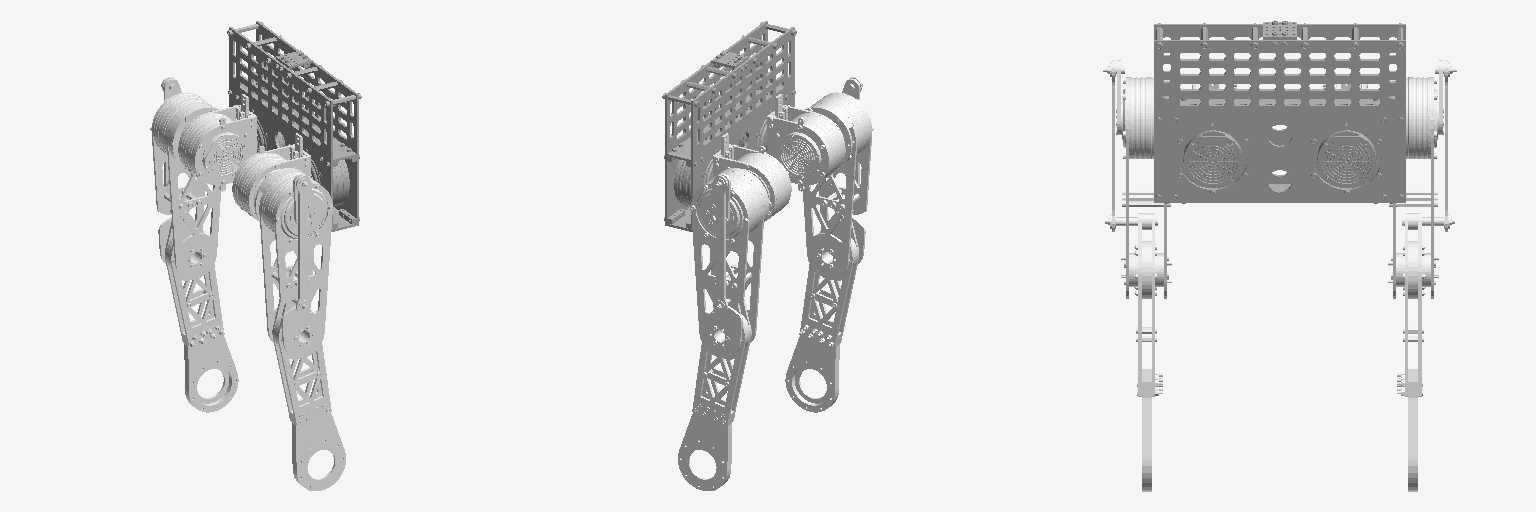
robot.urdf — CJ-003-wheelfoot:
<?xml version="1.0" encoding="utf-8"?>
<!-- This URDF was automatically created by SolidWorks to URDF Exporter! Originally created by [author] ([email redacted]) 
     Commit Version: 1.6.0-4-g7f85cfe  Build Version: 1.6.7995.38578
     For more information, please see http://wiki.ros.org/sw_urdf_exporter -->
<robot
  name="CJ-003-wheelfoot">
  <link
    name="base_link">
    <inertial>
      <origin
        xyz="-0.000956090713143542 -2.60410290767923E-05 -0.141363572462835"
        rpy="0 0 0" />
      <mass
        value="2.9787993" />
      <inertia
        ixx="0.0305221"
        ixy="0.0000023"
        ixz="-0.0000408"
        iyy="0.0090554"
        iyz="-0.0000010"
        izz="0.0231238" />
    </inertial>
    <visual>
      <origin
        xyz="0 0 0"
        rpy="0 0 0" />
      <geometry>
        <mesh
          filename="../meshes/base_link.STL" />
      </geometry>
      <material
        name="">
        <color
          rgba="0.752941176470588 0.752941176470588 0.752941176470588 1" />
      </material>
    </visual>
    <collision>
      <origin
        xyz="0 0 0"
        rpy="0 0 0" />
      <geometry>
        <mesh
          filename="../meshes/base_link.STL" />
      </geometry>
    </collision>
  </link>
  <link
    name="left_hip_Link">
    <inertial>
      <origin
        xyz="-0.0532214791628154 0.000924619503632623 -3.861639154671E-05"
        rpy="0 0 0" />
      <mass
        value="1.1161220" />
      <inertia
        ixx="0.0009754"
        ixy="0.0000059"
        ixz="-0.0000006"
        iyy="0.0015883"
        iyz="0.0000018"
        izz="0.0011149" />
    </inertial>
    <visual>
      <origin
        xyz="0 0 0"
        rpy="0 0 0" />
      <geometry>
        <mesh
          filename="../meshes/left_hip_Link.STL" />
      </geometry>
      <material
        name="">
        <color
          rgba="1 1 1 1" />
      </material>
    </visual>
    <collision>
      <origin
        xyz="0 0 0"
        rpy="0 0 0" />
      <geometry>
        <mesh
          filename="../meshes/left_hip_Link.STL" />
      </geometry>
    </collision>
  </link>
  <joint
    name="left_hip_joint"
    type="continuous">
    <origin
      xyz="-0.0301 0.08 -0.159"
      rpy="0 0 0" />
    <parent
      link="base_link" />
    <child
      link="left_hip_Link" />
    <axis
      xyz="1 0 0" />
  </joint>
  <link
    name="left_thigh_Link">
    <inertial>
      <origin
        xyz="-0.000961364581286359 0.0475914894303573 -0.03037352650229"
        rpy="0 0 0" />
      <mass
        value="1.8330795" />
      <inertia
        ixx="0.0146993"
        ixy="0.0000116"
        ixz="0.0000155"
        iyy="0.0148613"
        iyz="0.0001904"
        izz="0.0016331" />
    </inertial>
    <visual>
      <origin
        xyz="0 0 0"
        rpy="0 0 0" />
      <geometry>
        <mesh
          filename="../meshes/left_thigh_Link.STL" />
      </geometry>
      <material
        name="">
        <color
          rgba="1 1 1 1" />
      </material>
    </visual>
    <collision>
      <origin
        xyz="0 0 0"
        rpy="0 0 0" />
      <geometry>
        <mesh
          filename="../meshes/left_thigh_Link.STL" />
      </geometry>
    </collision>
  </link>
  <joint
    name="left_thigh_joint"
    type="continuous">
    <origin
      xyz="-0.059 0.0306 0"
      rpy="0 0 0" />
    <parent
      link="left_hip_Link" />
    <child
      link="left_thigh_Link" />
    <axis
      xyz="0 1 0" />
  </joint>
  <link
    name="left_calf_Link">
    <inertial>
      <origin
        xyz="0.0146820989379565 0.000189387958233284 -0.0832437152430494"
        rpy="0 0 0" />
      <mass
        value="0.3504867" />
      <inertia
        ixx="0.0030398"
        ixy="0.0000058"
        ixz="0.0005050"
        iyy="0.0032590"
        iyz="-0.0000329"
        izz="0.0002630" />
    </inertial>
    <visual>
      <origin
        xyz="0 0 0"
        rpy="0 0 0" />
      <geometry>
        <mesh
          filename="../meshes/left_calf_Link.STL" />
      </geometry>
      <material
        name="">
        <color
          rgba="1 1 1 1" />
      </material>
    </visual>
    <collision>
      <origin
        xyz="0 0 0"
        rpy="0 0 0" />
      <geometry>
        <mesh
          filename="../meshes/left_calf_Link.STL" />
      </geometry>
    </collision>
  </link>
  <joint
    name="left_calf_joint"
    type="continuous">
    <origin
      xyz="0 0.0489 -0.2"
      rpy="0 0 0" />
    <parent
      link="left_thigh_Link" />
    <child
      link="left_calf_Link" />
    <axis
      xyz="0 1 0" />
  </joint>
  <link
    name="right_hip_Link">
    <inertial>
      <origin
        xyz="-0.0532189397432775 -0.00117647536677837 3.83049136032515E-05"
        rpy="0 0 0" />
      <mass
        value="1.1161220" />
      <inertia
        ixx="0.0009754"
        ixy="-0.0000059"
        ixz="0.0000006"
        iyy="0.0015883"
        iyz="-0.0000018"
        izz="0.0011149" />
    </inertial>
    <visual>
      <origin
        xyz="0 0 0"
        rpy="0 0 0" />
      <geometry>
        <mesh
          filename="../meshes/right_hip_Link.STL" />
      </geometry>
      <material
        name="">
        <color
          rgba="1 1 1 1" />
      </material>
    </visual>
    <collision>
      <origin
        xyz="0 0 0"
        rpy="0 0 0" />
      <geometry>
        <mesh
          filename="../meshes/right_hip_Link.STL" />
      </geometry>
    </collision>
  </link>
  <joint
    name="right_hip_joint"
    type="continuous">
    <origin
      xyz="-0.0301 -0.08 -0.159"
      rpy="0 0 0" />
    <parent
      link="base_link" />
    <child
      link="right_hip_Link" />
    <axis
      xyz="1 0 0" />
  </joint>
  <link
    name="right_thigh_Link">
    <inertial>
      <origin
        xyz="-9.18182511895765E-05 -0.0473042683771448 -0.0238391998276769"
        rpy="0 0 0" />
      <mass
        value="1.8330795" />
      <inertia
        ixx="0.0146993"
        ixy="-0.0000390"
        ixz="-0.0000365"
        iyy="0.0148625"
        iyz="-0.0001904"
        izz="0.0016343" />
    </inertial>
    <visual>
      <origin
        xyz="0 0 0"
        rpy="0 0 0" />
      <geometry>
        <mesh
          filename="../meshes/right_thigh_Link.STL" />
      </geometry>
      <material
        name="">
        <color
          rgba="1 1 1 1" />
      </material>
    </visual>
    <collision>
      <origin
        xyz="0 0 0"
        rpy="0 0 0" />
      <geometry>
        <mesh
          filename="../meshes/right_thigh_Link.STL" />
      </geometry>
    </collision>
  </link>
  <joint
    name="right_thigh_joint"
    type="continuous">
    <origin
      xyz="-0.059 -0.0306 0"
      rpy="0 0 0" />
    <parent
      link="right_hip_Link" />
    <child
      link="right_thigh_Link" />
    <axis
      xyz="0 1 0" />
  </joint>
  <link
    name="right_calf_Link">
    <inertial>
      <origin
        xyz="0.0146743673886303 -0.000189387958234311 -0.0832450785238953"
        rpy="0 0 0" />
      <mass
        value="0.3504867" />
      <inertia
        ixx="0.0030396"
        ixy="-0.0000058"
        ixz="0.0005056"
        iyy="0.0032590"
        iyz="0.0000329"
        izz="0.0002632" />
    </inertial>
    <visual>
      <origin
        xyz="0 0 0"
        rpy="0 0 0" />
      <geometry>
        <mesh
          filename="../meshes/right_calf_Link.STL" />
      </geometry>
      <material
        name="">
        <color
          rgba="1 1 1 1" />
      </material>
    </visual>
    <collision>
      <origin
        xyz="0 0 0"
        rpy="0 0 0" />
      <geometry>
        <mesh
          filename="../meshes/right_calf_Link.STL" />
      </geometry>
    </collision>
  </link>
  <joint
    name="right_calf_joint"
    type="continuous">
    <origin
      xyz="0 -0.0489 -0.2"
      rpy="0 0 0" />
    <parent
      link="right_thigh_Link" />
    <child
      link="right_calf_Link" />
    <axis
      xyz="0 1 0" />
  </joint>
</robot>

--- What the picture shows (computed from the rendered views, not written in the file) ---
Views: 3 orthographic renders of the robot side by side, from view 1: azimuth 30°, elevation 25°; view 2: azimuth 150°, elevation 25°; view 3: azimuth 270°, elevation 25°.
Robot: CJ-003-wheelfoot — 7 links, 6 joints (6 continuous); root link base_link; default pose: all joints at 0.
Visible links, largest first — view 1: base_link, right_thigh_Link, left_thigh_Link, right_calf_Link, left_calf_Link, left_hip_Link, right_hip_Link; view 2: base_link, left_thigh_Link, right_thigh_Link, right_calf_Link, left_calf_Link, right_hip_Link, left_hip_Link; view 3: base_link, left_thigh_Link, right_thigh_Link, right_calf_Link, left_calf_Link.
Link boxes in pixels (x1,y1,x2,y2): base_link: (227,21,361,231); right_thigh_Link: (254,167,333,357); left_thigh_Link: (150,77,220,278); right_calf_Link: (272,299,345,490); left_calf_Link: (165,210,238,412); left_hip_Link: (178,94,256,191); right_hip_Link: (232,133,310,221); base_link: (662,21,796,231); left_thigh_Link: (690,167,771,357); right_thigh_Link: (803,77,873,278); right_calf_Link: (785,210,858,412); left_calf_Link: (678,299,751,490); right_hip_Link: (767,94,845,191); left_hip_Link: (713,133,791,221); base_link: (1154,20,1405,203); left_thigh_Link: (1379,60,1456,298); right_thigh_Link: (1103,60,1180,298); right_calf_Link: (1105,213,1163,491); left_calf_Link: (1396,213,1454,491).
Size in the robot's own frame: 0.1716 by 0.4222 by 0.631 metres.
Meshes: 7 distinct files referenced, 7 mesh visuals loaded (7 binary STL).